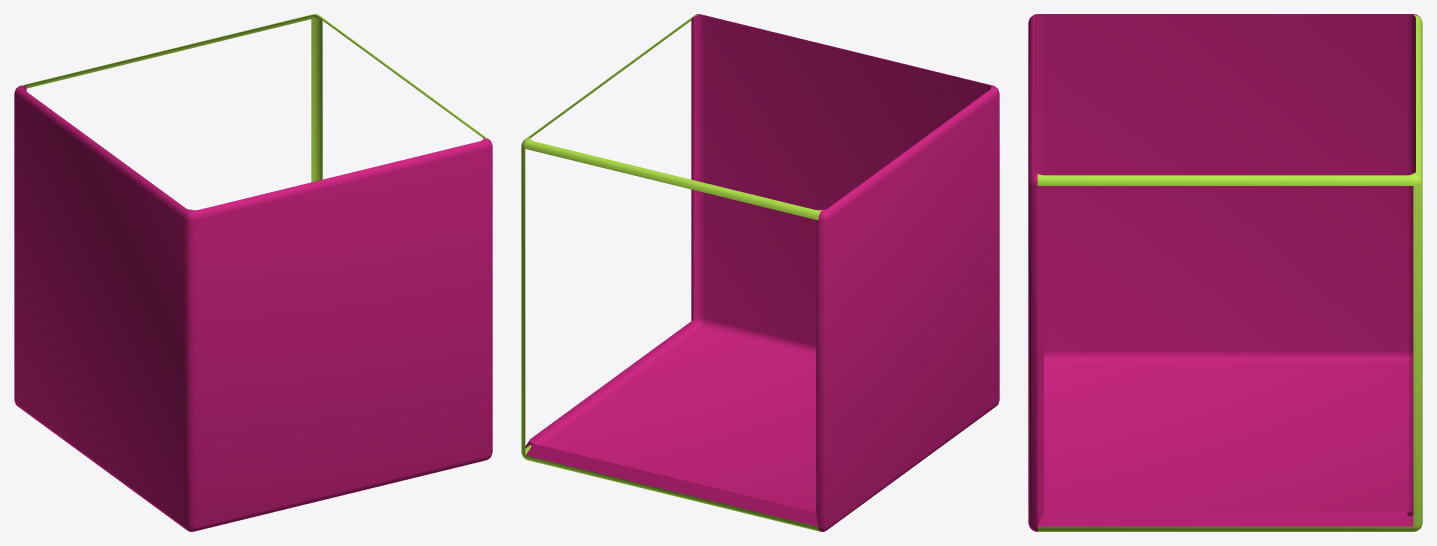
File: glassCube.FBX
3 renders of one model, left to right at view 1: azimuth 30°, elevation 25°; view 2: azimuth 150°, elevation 25°; view 3: azimuth 270°, elevation 25°, orthographic. The views are drawn at different scales.
Parts seen in each view (by area): view 1: 布尔_1; view 2: 布尔_1; view 3: 布尔_1.
Boxes of the visible parts, x1,y1,x2,y2 form: 布尔_1: (14,14,492,531); 布尔_1: (521,14,999,531); 布尔_1: (1028,14,1422,531).
Size of the model in its own units: 3000 by 3000 by 3000.
